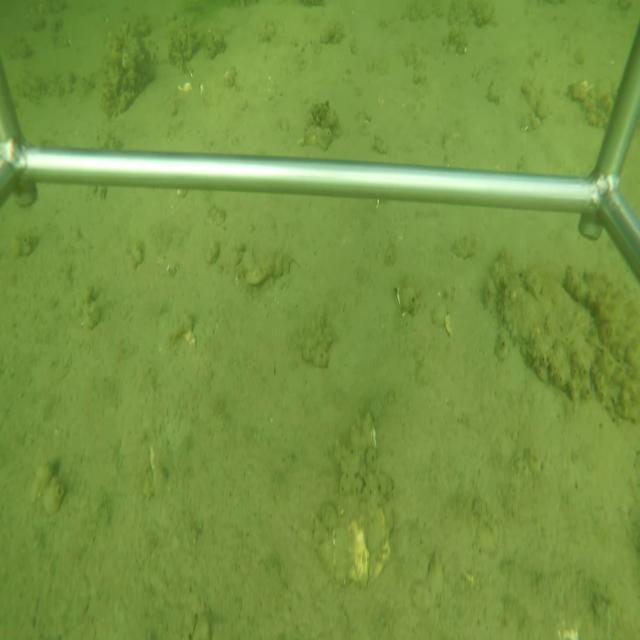Oyster-Indeterminate: (497, 258, 596, 395)
